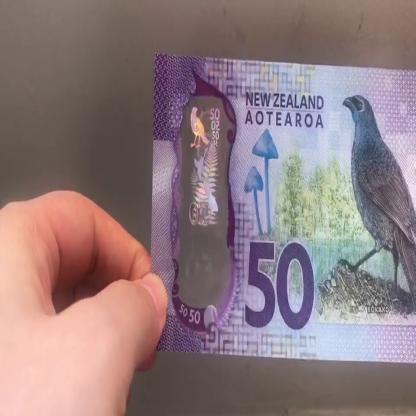50B: (189, 100, 222, 298)
